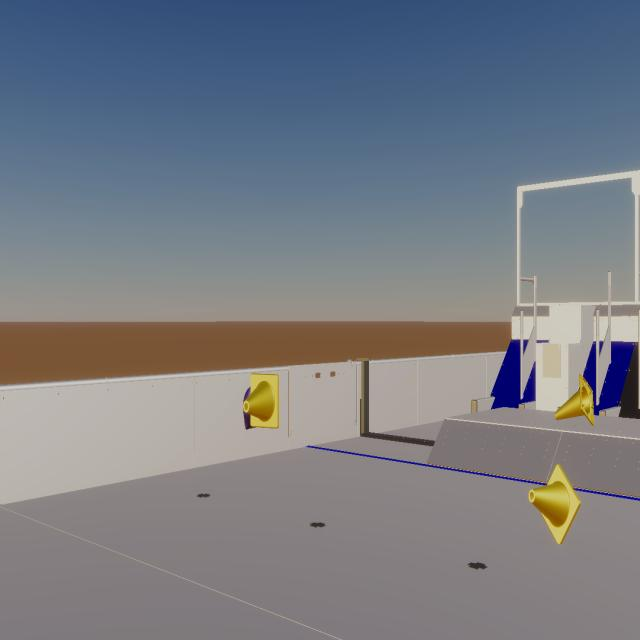frc_cone: (528, 463, 581, 544), (555, 374, 594, 426), (243, 374, 279, 428)
frc_cube: (243, 386, 256, 430)
